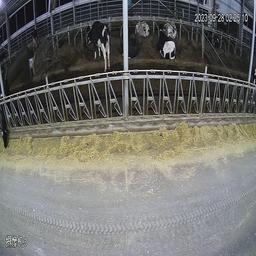cow: (84, 22, 111, 70), (156, 30, 175, 61), (207, 26, 222, 49), (137, 16, 151, 38), (163, 20, 179, 39), (27, 28, 39, 51)
